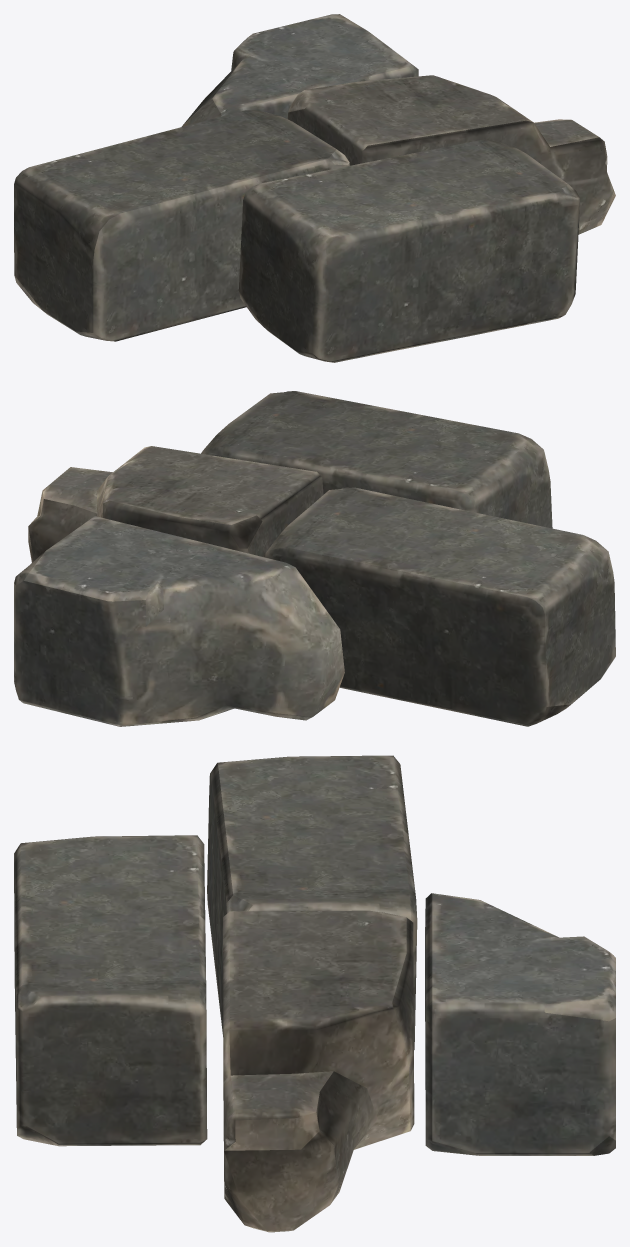
3 renders of one model, top to bottom at view 1: azimuth 30°, elevation 25°; view 2: azimuth 150°, elevation 25°; view 3: azimuth 270°, elevation 25°, orthographic. The views are drawn at different scales.
Parts seen in each view (by area): view 1: SM_Temple_Road_Stones_03_LOD0; view 2: SM_Temple_Road_Stones_03_LOD0; view 3: SM_Temple_Road_Stones_03_LOD0.
Part boxes in pixels (x1,y1,x2,y2): SM_Temple_Road_Stones_03_LOD0: (14,14,615,362); SM_Temple_Road_Stones_03_LOD0: (14,391,615,726); SM_Temple_Road_Stones_03_LOD0: (14,755,615,1232).
Bounding box in the file's own units: 2.46 × 0.6468 × 1.96.
1 material, 1 textured.
